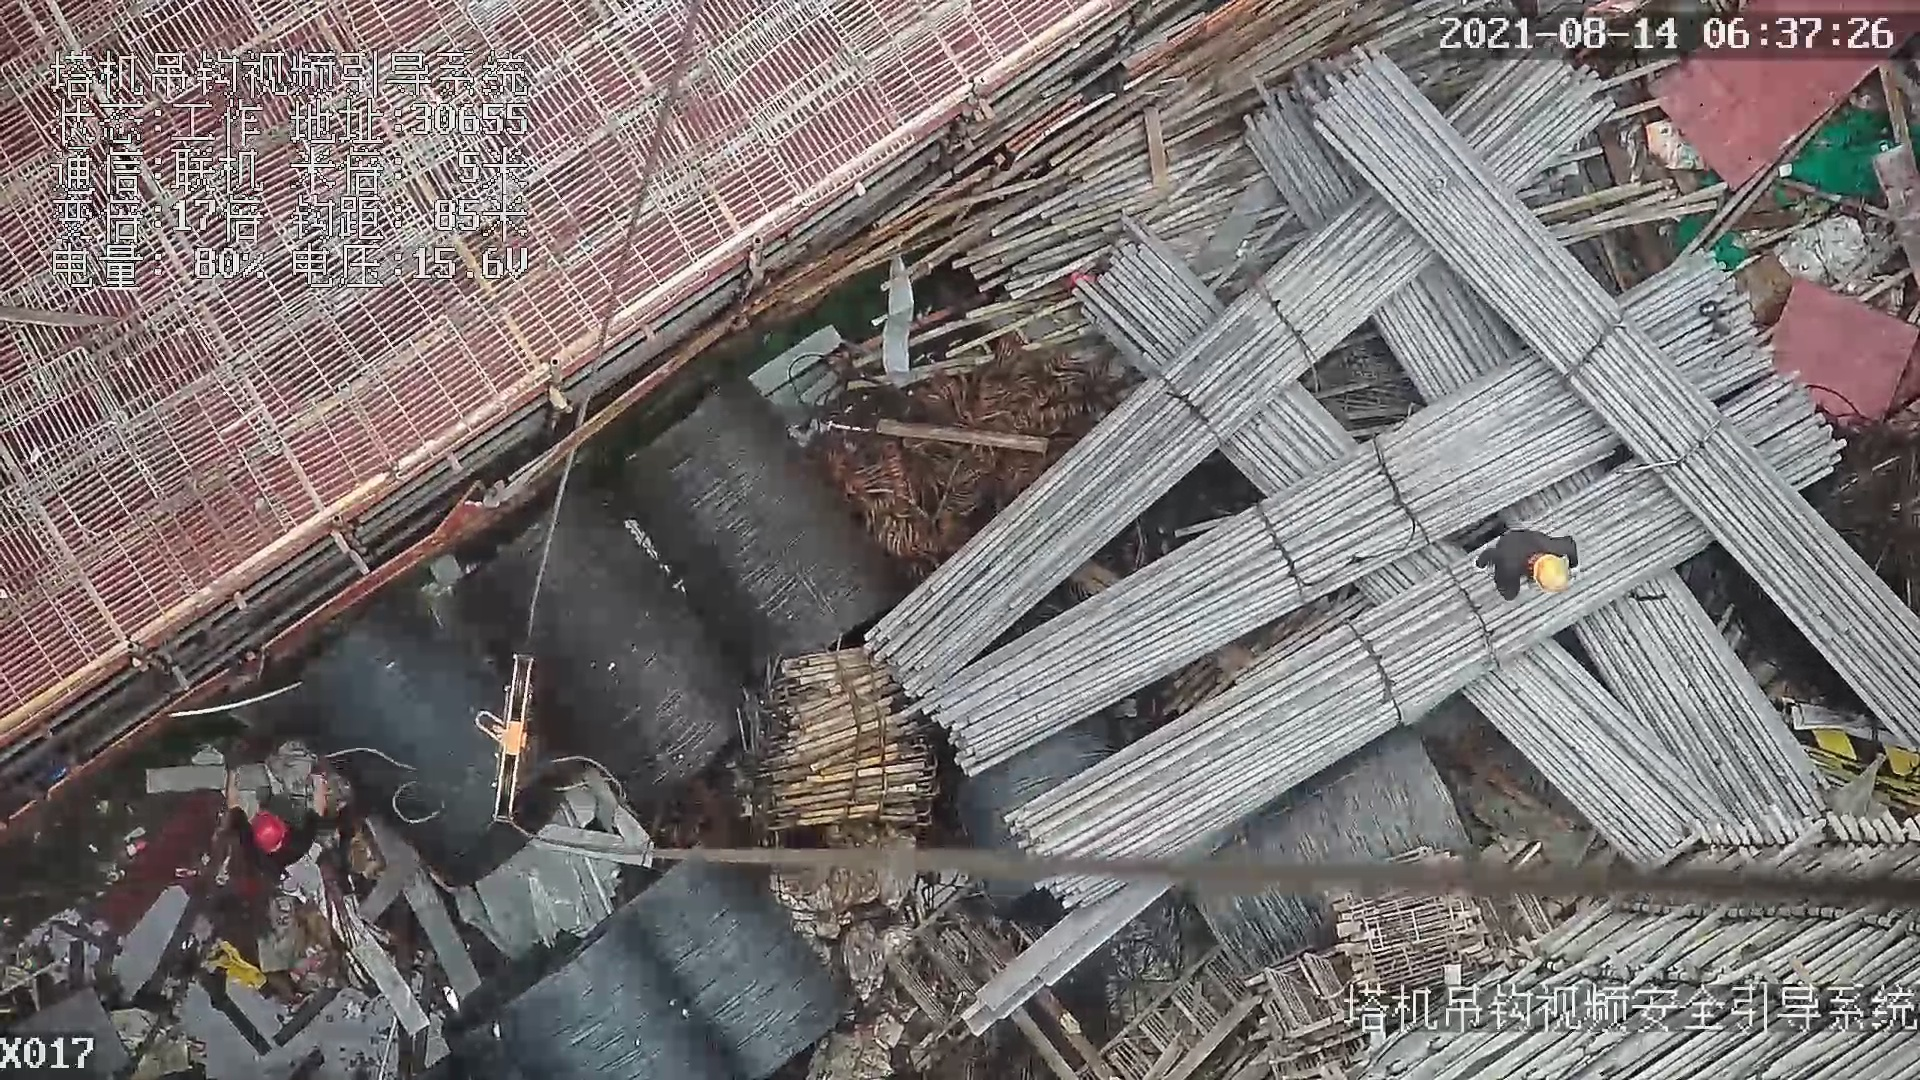helmet: (241, 807, 291, 852), (1531, 553, 1573, 596)
hook: (476, 649, 532, 824)
person: (223, 764, 329, 862), (1463, 523, 1581, 597)
scaffold: (903, 49, 1917, 859), (742, 640, 949, 840)
